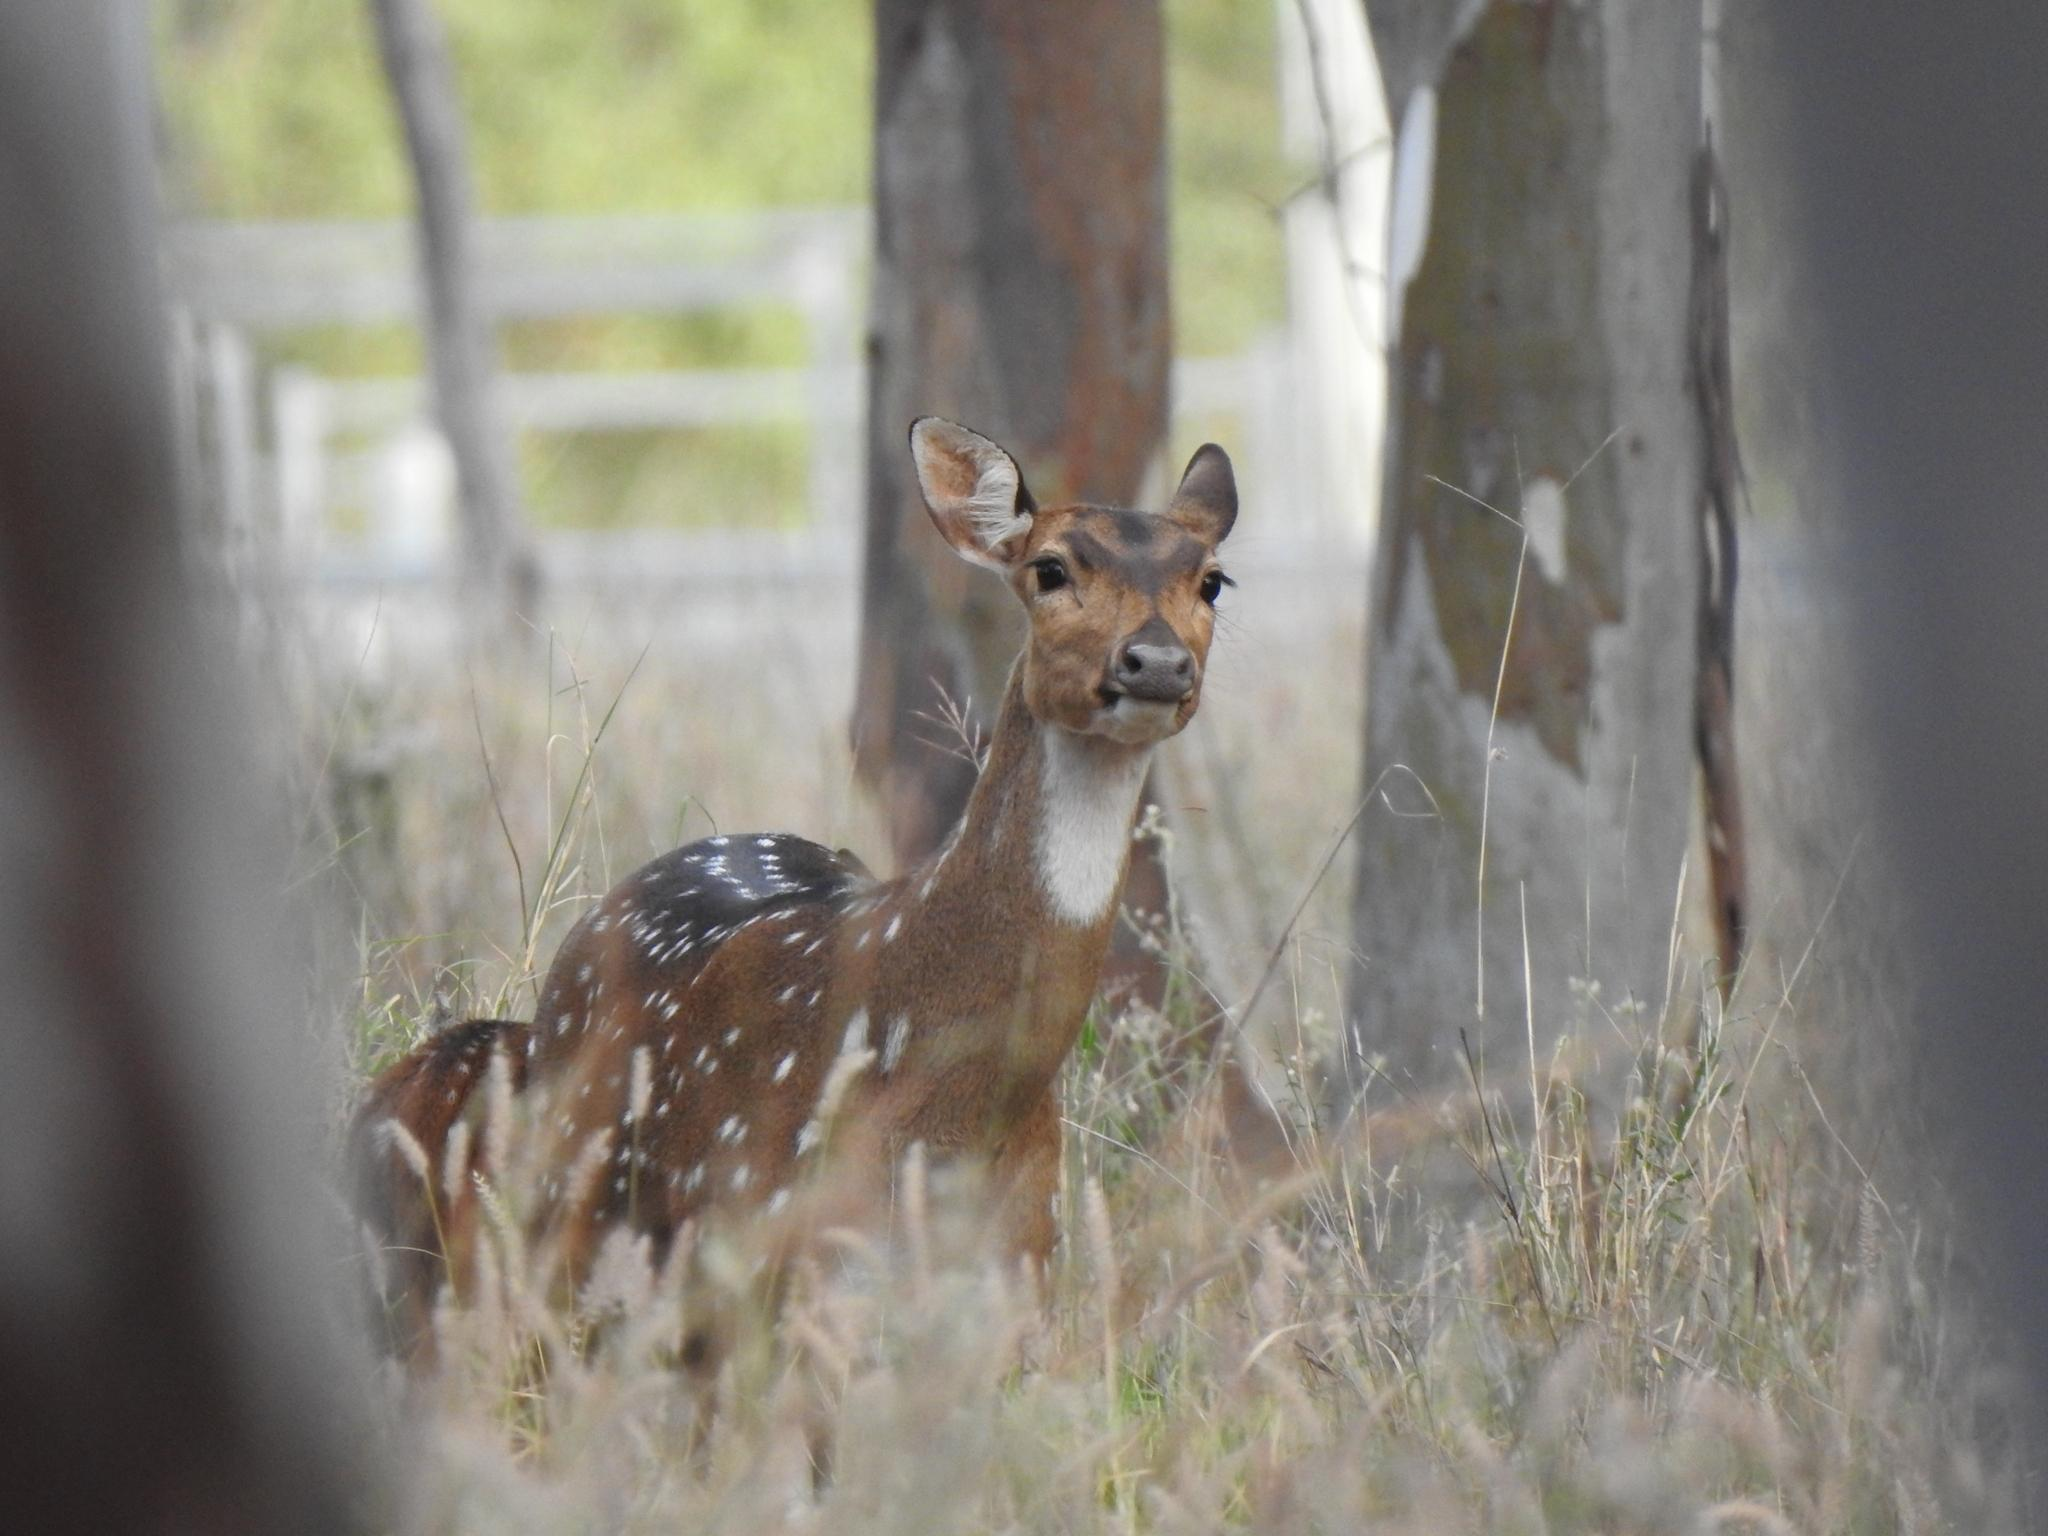Deer: (527, 418, 1235, 1275)
